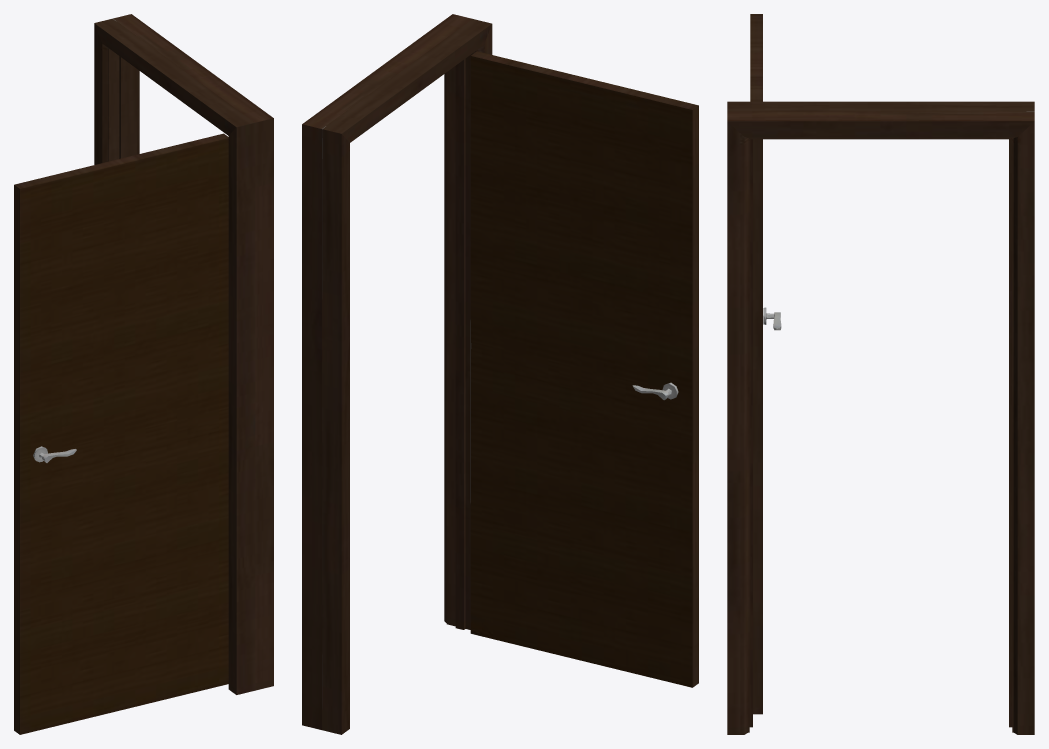
File: Door0019open.obj
The picture shows the model from 3 angles, left to right: view 1: azimuth 30°, elevation 25°; view 2: azimuth 150°, elevation 25°; view 3: azimuth 270°, elevation 25°; orthographic projection. The views are drawn at different scales.
Bounding box in the file's own units: 0.951 × 2.12 × 0.964.
Materials: 1 (1 with a texture image).
